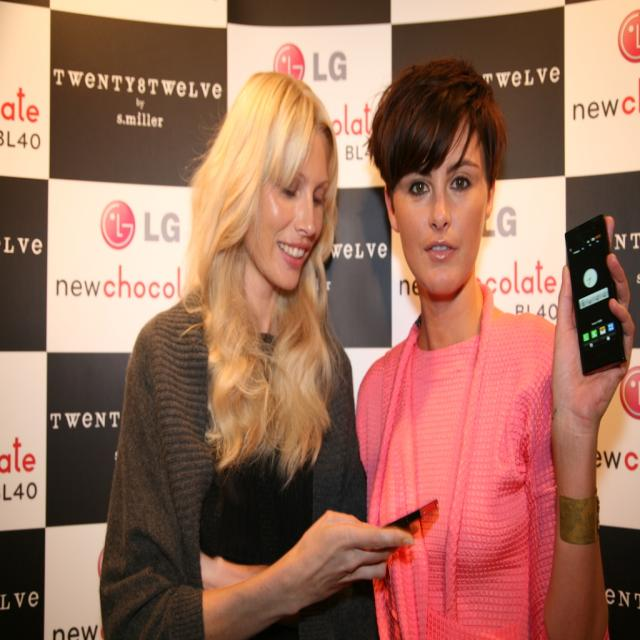Mobile phone: (552, 202, 631, 394), (383, 498, 439, 531)
